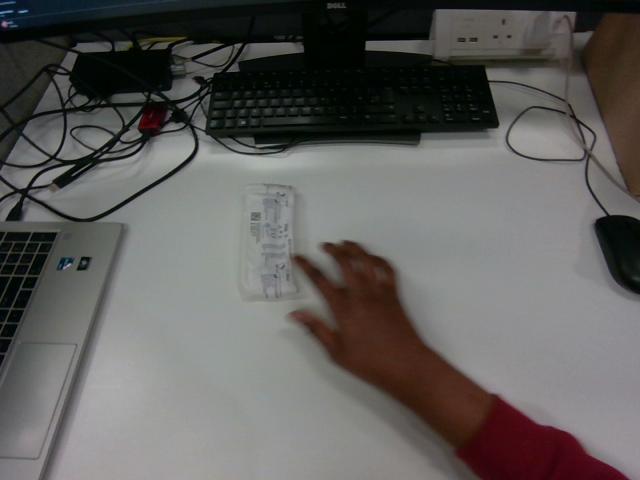syringe: (240, 184, 297, 300)
